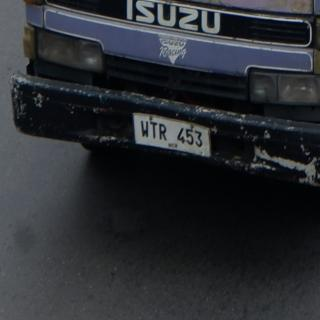license: (134, 115, 212, 159)
